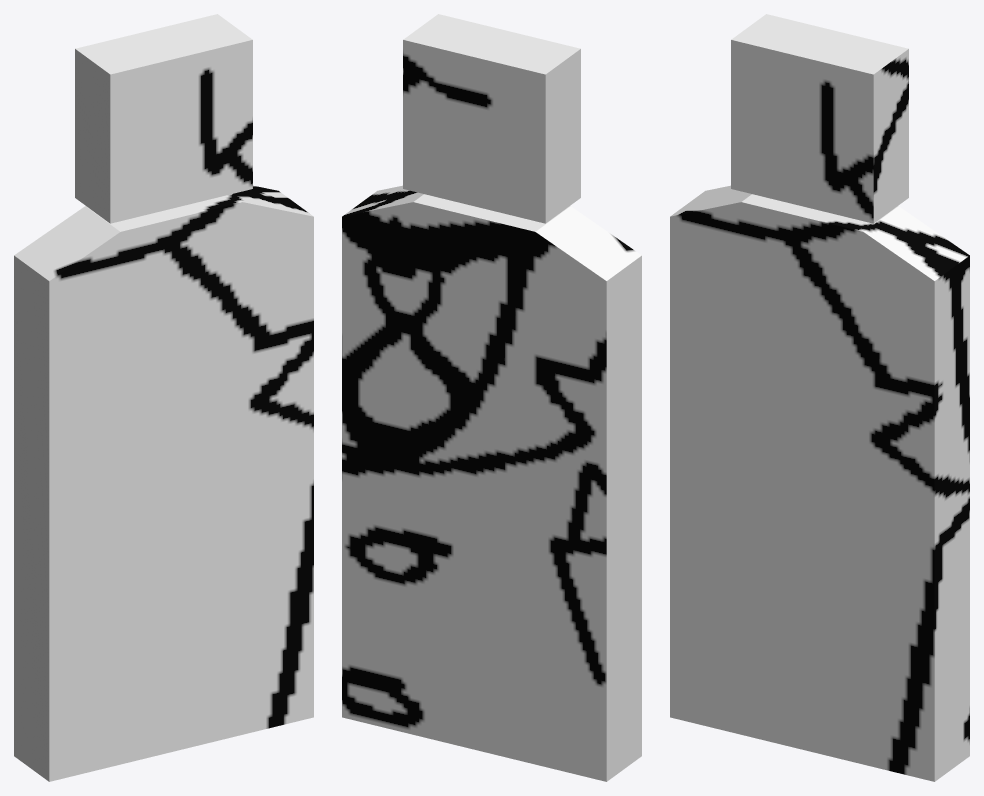
The model's file is player.fbx.
3 renders of one model, left to right at view 1: azimuth 30°, elevation 25°; view 2: azimuth 150°, elevation 25°; view 3: azimuth 330°, elevation 25°, orthographic.
Visible parts, largest first — view 1: Cube; view 2: Cube; view 3: Cube.
Part boxes in pixels (x1=…): Cube: x1=14, y1=14, x2=313, y2=781; Cube: x1=342, y1=14, x2=641, y2=781; Cube: x1=670, y1=14, x2=969, y2=781.
Size of the model in its own units: 26 by 65 by 6.
